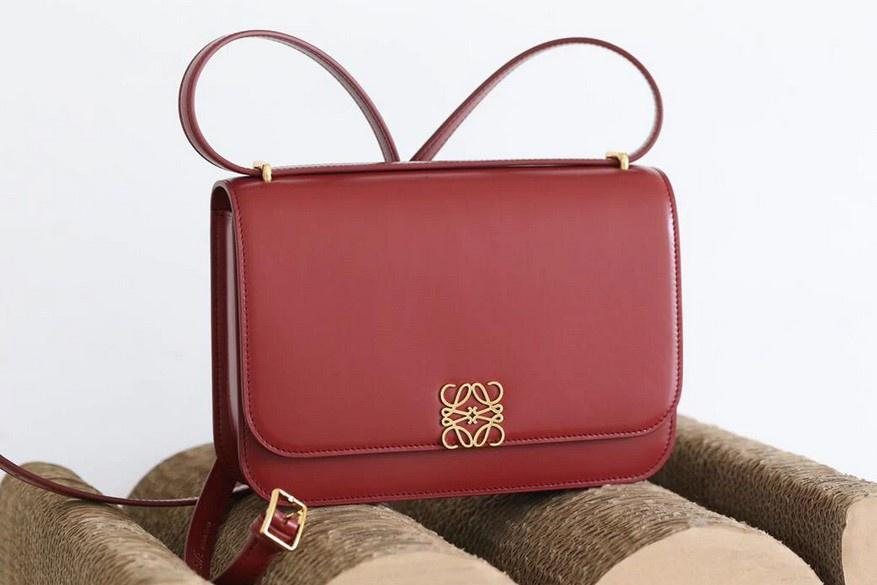LOEWE: (431, 372, 515, 456)
